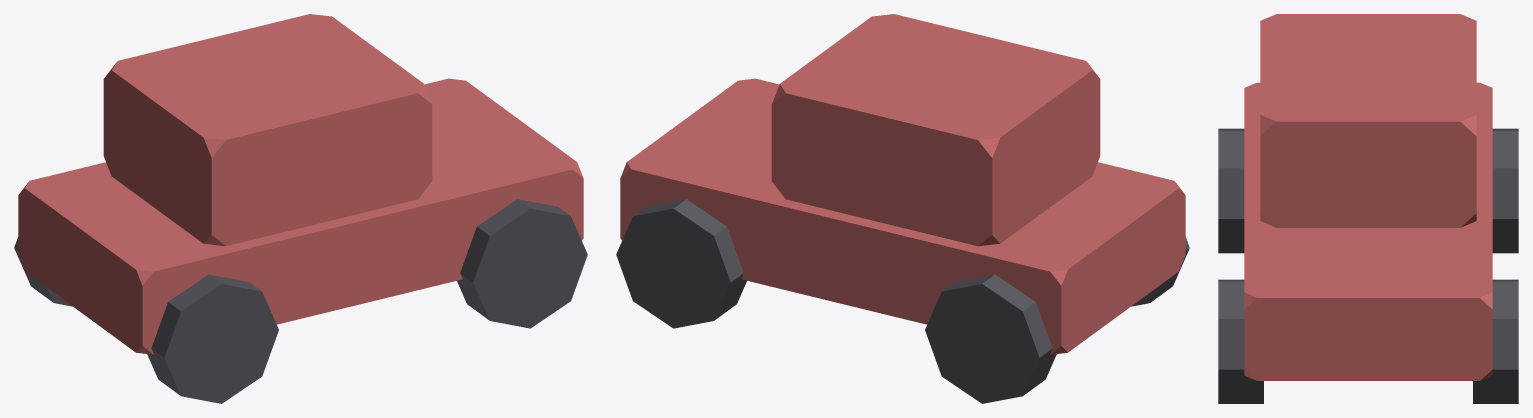
3 renders of one model, left to right at view 1: azimuth 30°, elevation 25°; view 2: azimuth 150°, elevation 25°; view 3: azimuth 270°, elevation 25°, orthographic.
Visible parts, largest first — view 1: part1, part0, part5, part3; view 2: part1, part0, part4, part2; view 3: part1, part0, part2, part3, part4, part5.
Boxes of the visible parts, <box> form: part1: <box>103,14,432,246</box>; part0: <box>18,78,583,354</box>; part5: <box>147,274,278,403</box>; part3: <box>457,199,587,328</box>; part1: <box>771,14,1100,246</box>; part0: <box>620,78,1185,354</box>; part4: <box>925,274,1056,403</box>; part2: <box>616,199,746,328</box>; part1: <box>1260,14,1476,227</box>; part0: <box>1244,82,1492,380</box>; part2: <box>1473,279,1518,403</box>; part3: <box>1218,279,1263,403</box>; part4: <box>1492,128,1518,253</box>; part5: <box>1218,128,1244,253</box>.
Bounding box in the file's own units: 4 × 2.1 × 2.36.
